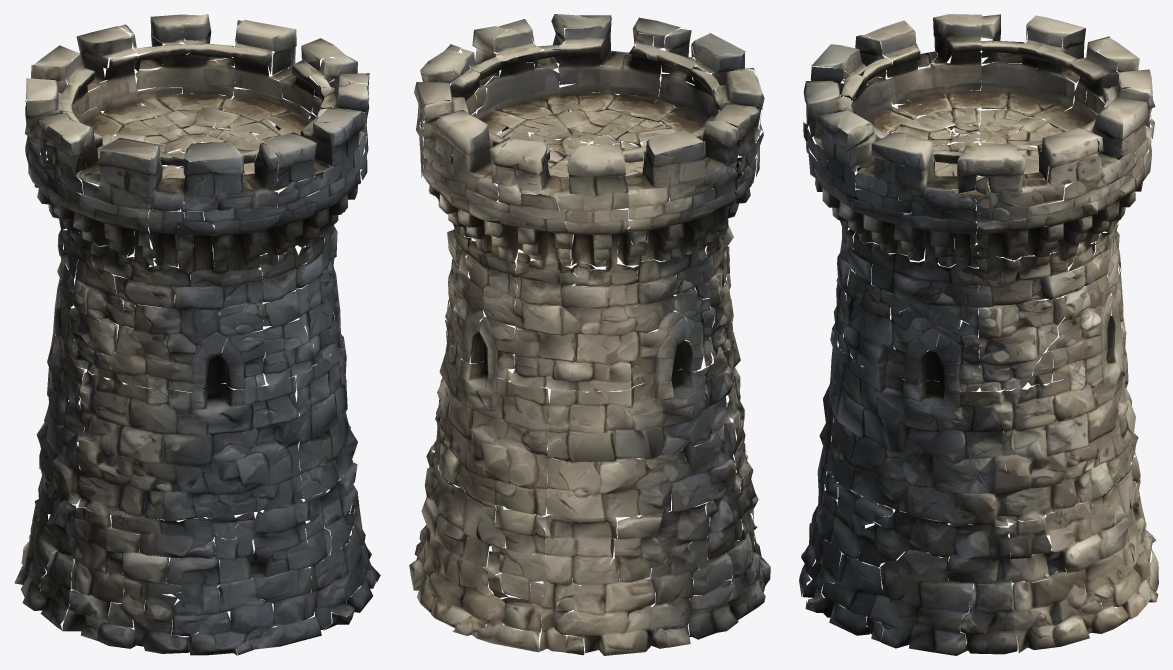
File: castle_tower.glb
3 renders of one model, left to right at view 1: azimuth 30°, elevation 25°; view 2: azimuth 150°, elevation 25°; view 3: azimuth 270°, elevation 25°, orthographic.
Parts seen in each view (by area): view 1: tripo_node_50b2ce35-0251-4a9a-9b55-fe2f2a8e84b1; view 2: tripo_node_50b2ce35-0251-4a9a-9b55-fe2f2a8e84b1; view 3: tripo_node_50b2ce35-0251-4a9a-9b55-fe2f2a8e84b1.
Boxes of the visible parts, x1=… form: tripo_node_50b2ce35-0251-4a9a-9b55-fe2f2a8e84b1: x1=14, y1=14, x2=380, y2=655; tripo_node_50b2ce35-0251-4a9a-9b55-fe2f2a8e84b1: x1=409, y1=14, x2=770, y2=655; tripo_node_50b2ce35-0251-4a9a-9b55-fe2f2a8e84b1: x1=799, y1=14, x2=1158, y2=655.
Bounding box in the file's own units: 0.6583 × 1 × 0.6536.
1 material, 1 textured.
